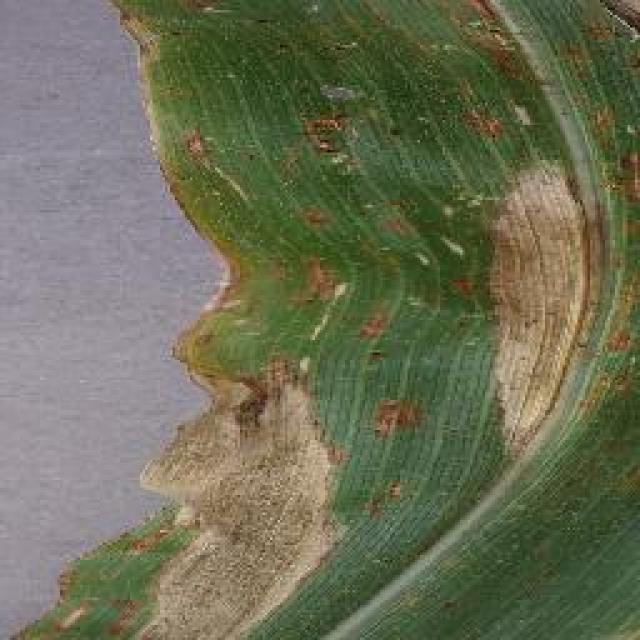Corn___Northern_Leaf_Blight: (5, 0, 635, 638)
